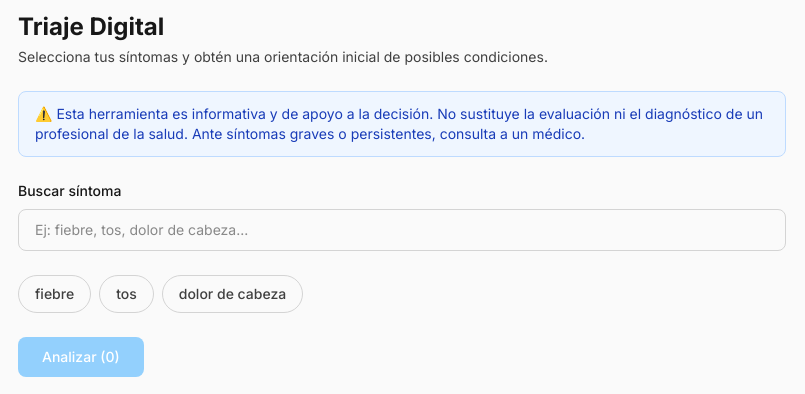
it: TriageForm › filtra los síntomas por búsqueda
Expected: the button "fiebre" is shown, [18, 275, 91, 313]
Type "tos" into the field labelled "Buscar síntoma" at (402, 230), box [18, 209, 786, 251]
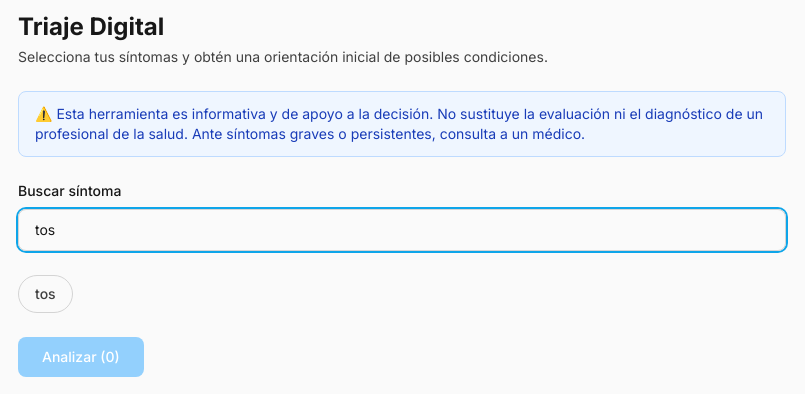
Expected: the button "tos" is shown, [18, 275, 73, 313]
Expected: the button "fiebre" is gone
